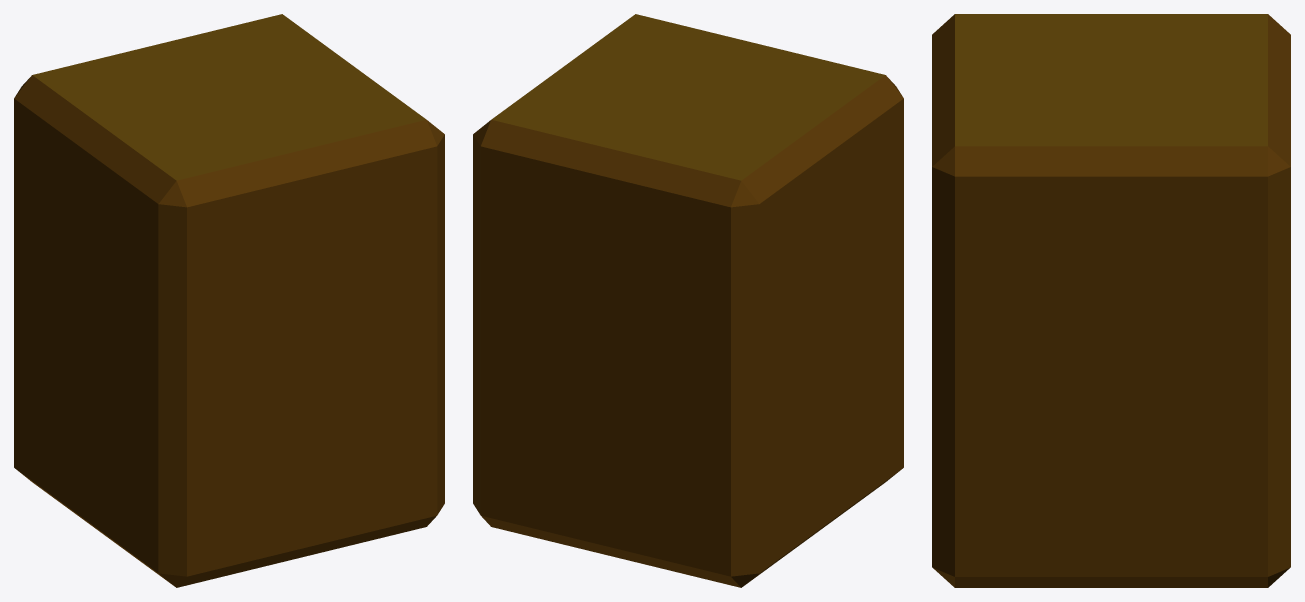
File: Music Box.fbx
3 views of the same model, side by side, from view 1: azimuth 30°, elevation 25°; view 2: azimuth 150°, elevation 25°; view 3: azimuth 270°, elevation 25° (orthographic). The views are drawn at different scales.
Visible parts, largest first — view 1: Wood Box; view 2: Wood Box; view 3: Wood Box.
Boxes of the visible parts, <box> form: Wood Box: <box>14,14,444,587</box>; Wood Box: <box>473,14,903,587</box>; Wood Box: <box>932,14,1290,587</box>.
Size of the model in its own units: 0.2152 by 0.2924 by 0.2152.
